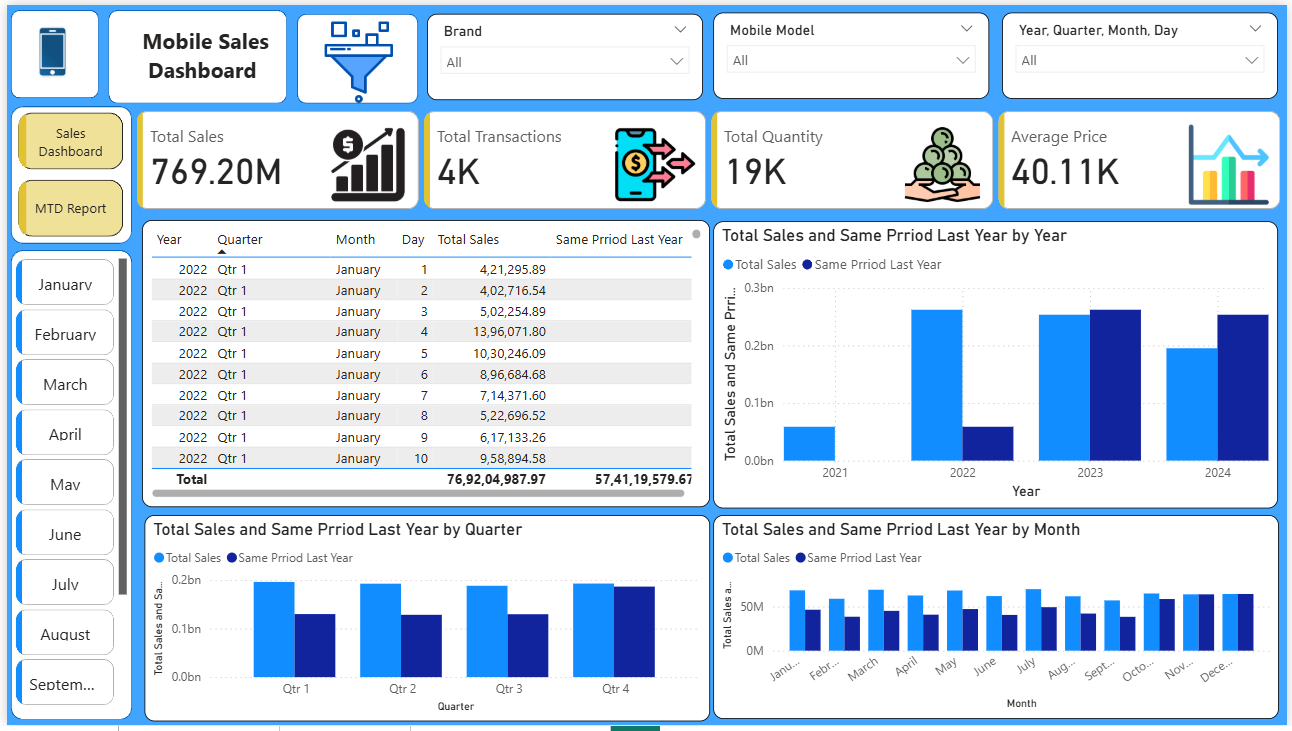

What the dashboard file says about the page in this screenshot:
{"tool":"powerbi","page":{"name":"Same Period Last Year","canvas":[1280,720],"ordinal":2},"visuals":[{"type":"shape","box":[3.7,4.9,88.3,88.3],"z":0},{"type":"image","box":[0,0,90.8,93.3],"z":1000},{"type":"shape","box":[3.8,101.2,121.2,137.5],"z":2000},{"type":"cardVisual","fields":{"Data":["Mobile_Sales_Raw_Data.Total Sales","Mobile_Sales_Raw_Data.Total Transactions","Mobile_Sales_Raw_Data.Total Quantity","Mobile_Sales_Raw_Data.Average Price"]},"box":[125,101.2,1155,108.8],"z":3000},{"type":"slicer","fields":{"Values":["Calendar.Date.Variation.Date Hierarchy.Year","Calendar.Date.Variation.Date Hierarchy.Quarter","Calendar.Date.Variation.Date Hierarchy.Month","Calendar.Date.Variation.Date Hierarchy.Day"]},"box":[995,7.5,276.2,86.2],"z":4000},{"type":"slicer","fields":{"Values":["Mobile_Sales_Raw_Data.Mobile Model"]},"box":[706.2,7.5,276.2,86.2],"z":5000},{"type":"slicer","fields":{"Values":["Mobile_Sales_Raw_Data.Brand"]},"box":[420,8.8,276.2,86.2],"z":6000},{"type":"shape","box":[290,8.8,121.2,90],"z":7000},{"type":"image","box":[305,0,93.8,113.8],"z":8000},{"type":"shape","box":[101.2,5,178.8,93.8],"z":9000},{"type":"textbox","box":[112.5,16.2,157.5,72.5],"z":10000},{"type":"shape","box":[3.7,245.4,121.5,469.9],"z":12000},{"type":"advancedSlicerVisual","fields":{"Values":["Calendar.Date.Variation.Date Hierarchy.Month"]},"box":[3.8,248.8,121.2,462.5],"z":13000},{"type":"tableEx","fields":{"Values":["Calendar.Date.Variation.Date Hierarchy.Year","Calendar.Date.Variation.Date Hierarchy.Quarter","Calendar.Date.Variation.Date Hierarchy.Month","Calendar.Date.Variation.Date Hierarchy.Day","Mobile_Sales_Raw_Data.Total Sales","Mobile_Sales_Raw_Data.Same Prriod Last Year"]},"box":[135,214.7,568.1,287.1],"z":13001},{"type":"clusteredColumnChart","fields":{"Category":["Calendar.Date.Variation.Date Hierarchy.Year","Calendar.Date.Variation.Date Hierarchy.Quarter","Calendar.Date.Variation.Date Hierarchy.Month","Calendar.Date.Variation.Date Hierarchy.Day"],"Y":["Mobile_Sales_Raw_Data.Total Sales","Mobile_Sales_Raw_Data.Same Prriod Last Year"]},"box":[706.8,216,564.4,287.1],"z":13002},{"type":"clusteredColumnChart","fields":{"Category":["Calendar.Date.Variation.Date Hierarchy.Year","Calendar.Date.Variation.Date Hierarchy.Quarter","Calendar.Date.Variation.Date Hierarchy.Month","Calendar.Date.Variation.Date Hierarchy.Day"],"Y":["Mobile_Sales_Raw_Data.Total Sales","Mobile_Sales_Raw_Data.Same Prriod Last Year"]},"box":[137.4,510.4,565.6,206.1],"z":13003},{"type":"clusteredColumnChart","fields":{"Category":["Calendar.Date.Variation.Date Hierarchy.Year","Calendar.Date.Variation.Date Hierarchy.Quarter","Calendar.Date.Variation.Date Hierarchy.Month","Calendar.Date.Variation.Date Hierarchy.Day"],"Y":["Mobile_Sales_Raw_Data.Total Sales","Mobile_Sales_Raw_Data.Same Prriod Last Year"]},"box":[706.8,510.4,565.6,203.7],"z":13004},{"type":"pageNavigator","box":[11,108,105.5,125.2],"z":13005}]}

Visuals, with their boxes in screenshot pixels (x1, y1, x2, y2), scaled from the page's 1280x720 canvas onto the 1292x731 screenshot:
shape: region(4, 5, 93, 95)
image: region(0, 0, 92, 95)
shape: region(4, 103, 126, 242)
cardVisual - Mobile_Sales_Raw_Data.Total Sales x Mobile_Sales_Raw_Data.Total Transactions: region(126, 103, 1291, 213)
slicer - Calendar.Date.Variation.Date Hierarchy.Year x Calendar.Date.Variation.Date Hierarchy.Quarter: region(1004, 8, 1283, 95)
slicer - Mobile_Sales_Raw_Data.Mobile Model: region(713, 8, 992, 95)
slicer - Mobile_Sales_Raw_Data.Brand: region(424, 9, 703, 96)
shape: region(293, 9, 415, 100)
image: region(308, 0, 403, 116)
shape: region(102, 5, 283, 100)
textbox: region(114, 16, 273, 90)
shape: region(4, 249, 126, 726)
advancedSlicerVisual - Calendar.Date.Variation.Date Hierarchy.Month: region(4, 253, 126, 722)
tableEx - Calendar.Date.Variation.Date Hierarchy.Year x Calendar.Date.Variation.Date Hierarchy.Quarter: region(136, 218, 710, 509)
clusteredColumnChart - Calendar.Date.Variation.Date Hierarchy.Year x Calendar.Date.Variation.Date Hierarchy.Quarter: region(713, 219, 1283, 511)
clusteredColumnChart - Calendar.Date.Variation.Date Hierarchy.Year x Calendar.Date.Variation.Date Hierarchy.Quarter: region(139, 518, 710, 727)
clusteredColumnChart - Calendar.Date.Variation.Date Hierarchy.Year x Calendar.Date.Variation.Date Hierarchy.Quarter: region(713, 518, 1284, 725)
pageNavigator: region(11, 110, 118, 237)
